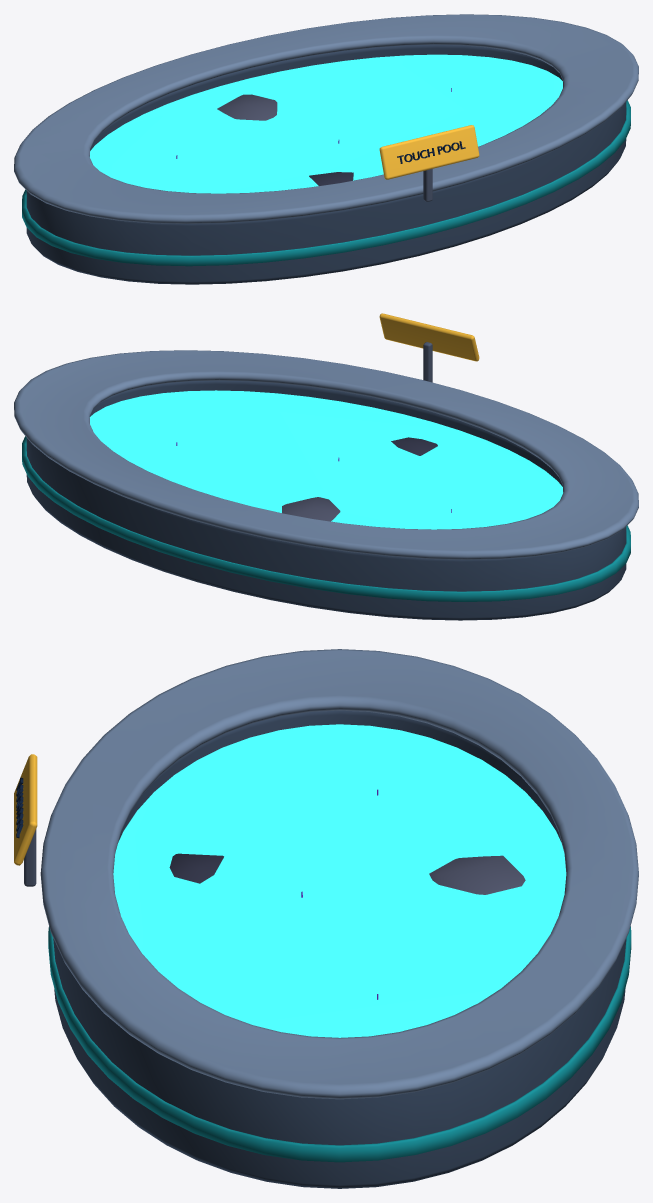
File: aqua_touch_pool.glb
The picture shows the model from 3 angles, top to bottom: view 1: azimuth 30°, elevation 25°; view 2: azimuth 150°, elevation 25°; view 3: azimuth 270°, elevation 25°; orthographic projection. The views are drawn at different scales.
Visible parts, largest first — view 1: TouchPool, TouchWater.001; view 2: TouchPool, TouchWater.001; view 3: TouchPool, TouchWater.001.
Boxes of the visible parts, x1,y1,x2,y2 form: TouchPool: (14, 14, 638, 284); TouchWater.001: (90, 54, 562, 193); TouchPool: (14, 313, 638, 620); TouchWater.001: (90, 390, 563, 529); TouchPool: (14, 649, 638, 1188); TouchWater.001: (113, 724, 566, 1037).
Bounding box in the file's own units: 6.93 × 1.41 × 4.14.
